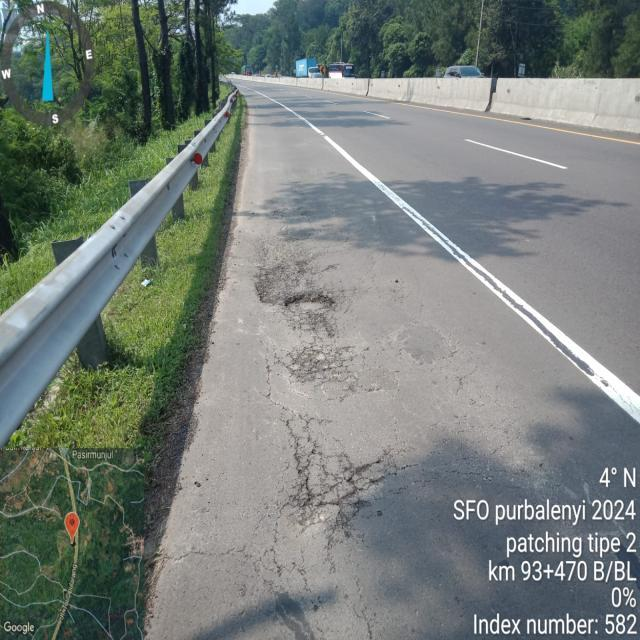Buraco: (282, 288, 338, 318), (517, 116, 534, 122)
